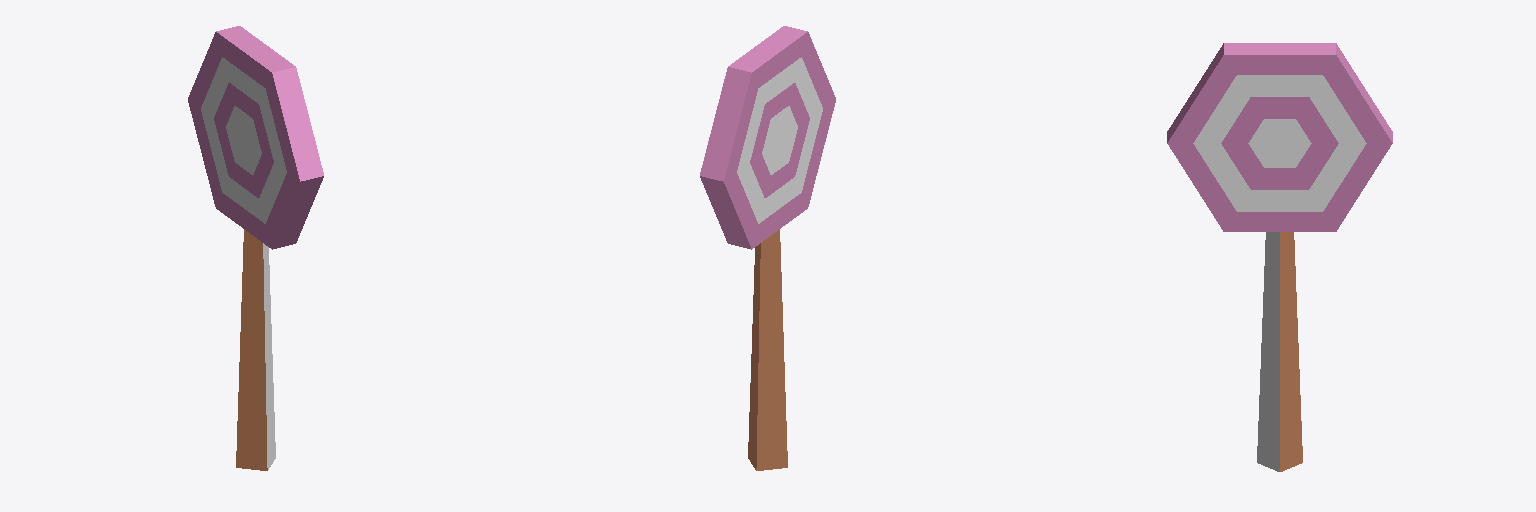
The model's file is lollypop.obj.
3 renders of one model, left to right at view 1: azimuth 30°, elevation 25°; view 2: azimuth 150°, elevation 25°; view 3: azimuth 270°, elevation 25°, orthographic.
Parts seen in each view (by area): view 1: lollypop; view 2: lollypop; view 3: lollypop.
Part boxes in pixels (x1,y1,x2,y2): lollypop: (188,26,323,470); lollypop: (700,26,835,470); lollypop: (1167,43,1392,471).
Size of the model in its own units: 0.0385 by 0.3798 by 0.1875.